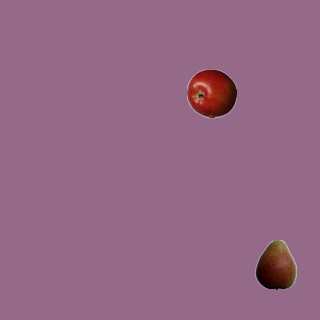Apple Braeburn: (186, 68, 236, 118)
Pear Forelle: (250, 239, 300, 289)
